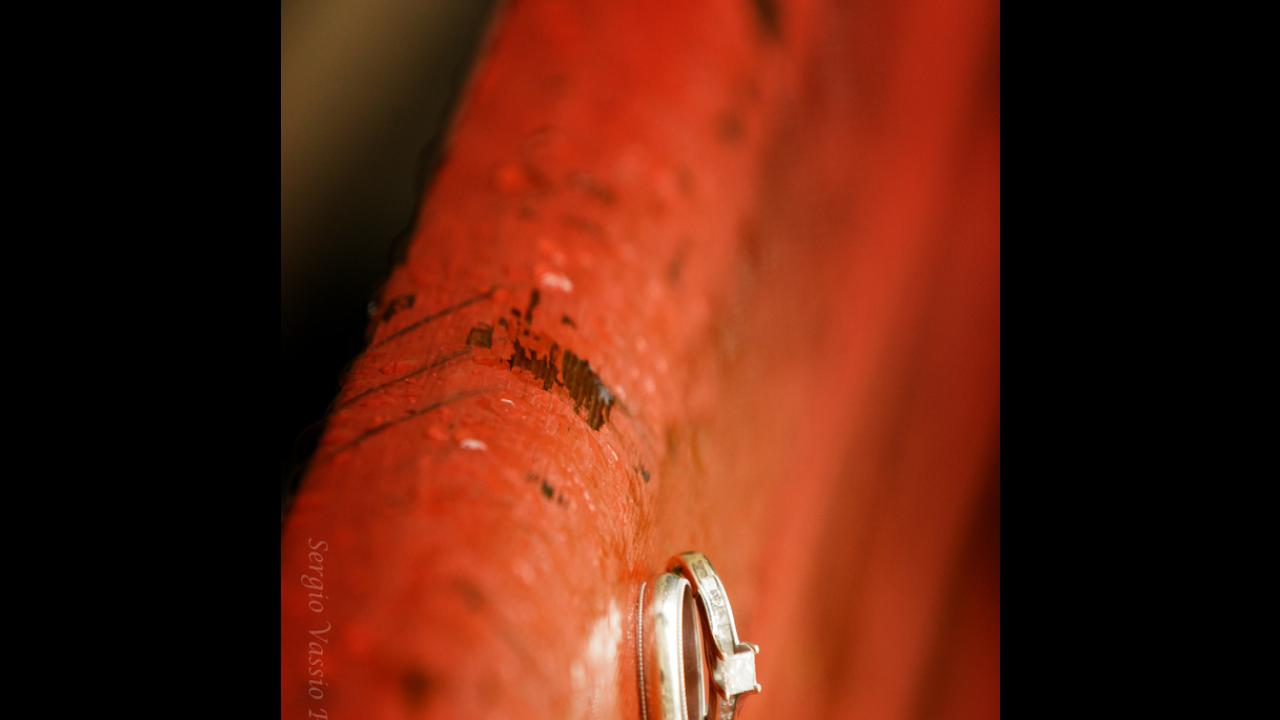ring: (691, 551, 761, 720), (639, 578, 705, 720)
